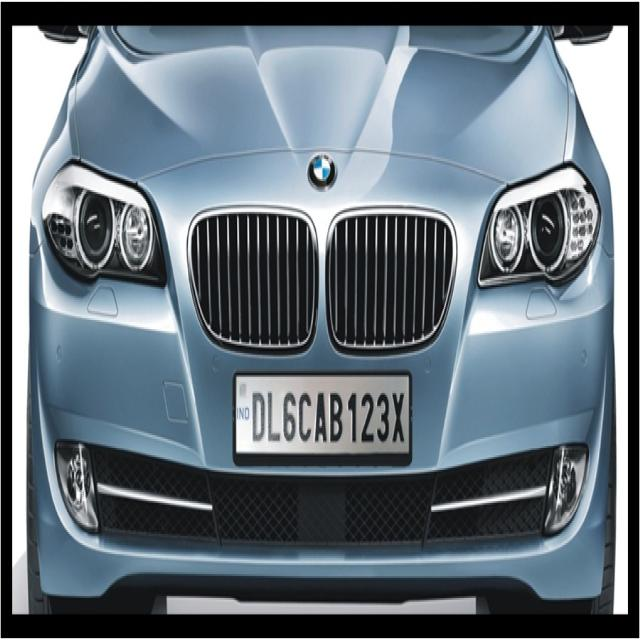number_plate: (233, 378, 412, 462)
